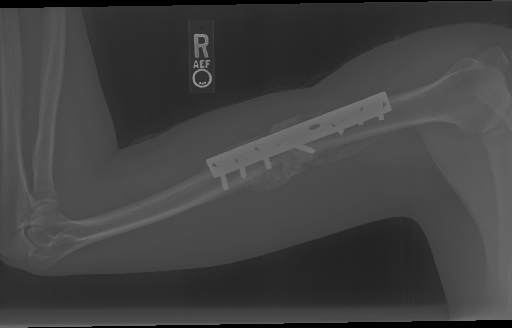implant: (204, 85, 403, 196)
